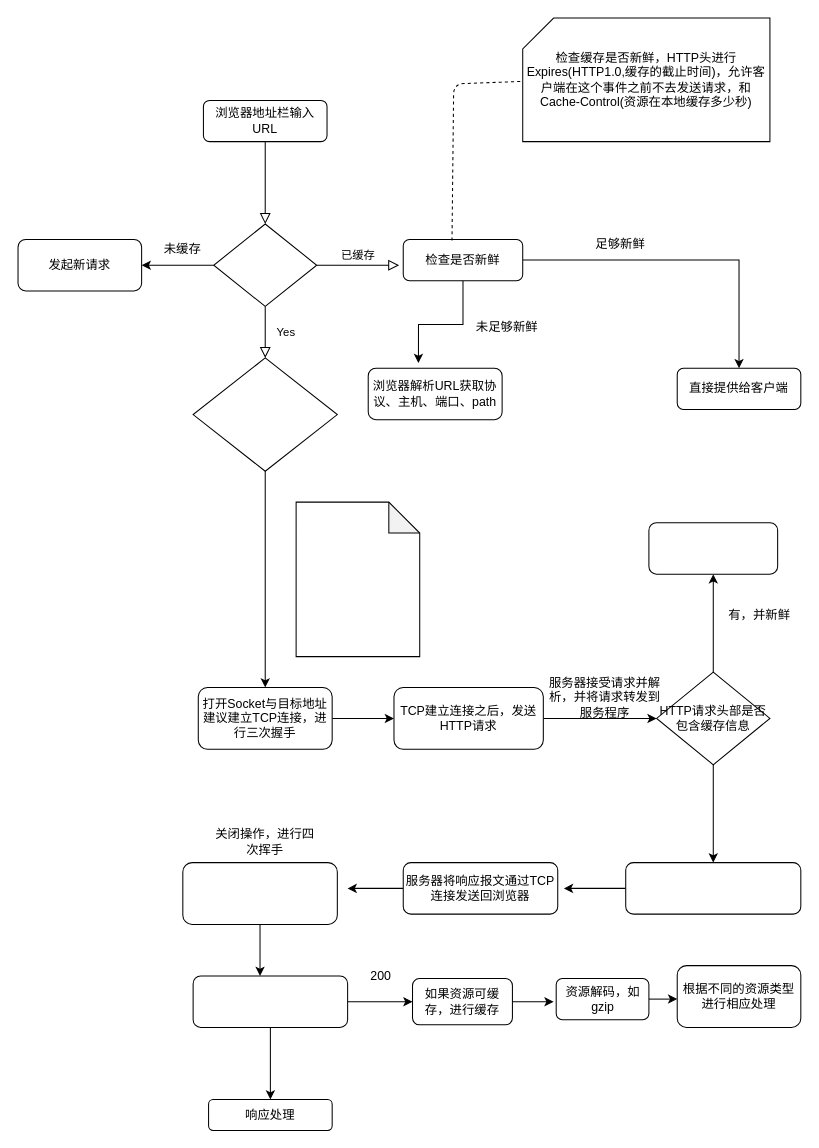
Some shapes in this 819 by 1148 pixel diagram are drawn without their labels. Each missing label, with the box of its shape:
处理程序读取完整请求并准备HTTP响应: (625, 862, 801, 914)
查看缓存: (213, 223, 317, 306)
浏览器接收到HTTP响应根据情况选择关闭TCP连接或保留重用: (182, 862, 337, 924)
浏览器检查状态码: (192, 975, 348, 1027)
浏览器组装一个HTTP请求报文: (192, 357, 337, 471)
浏览器获取IP地址： 1.浏览器缓存 2. 本机缓存 3. hosts文件 4. 路由器缓存 5. DNS缓存 6.DNS递归查询: (295, 501, 420, 657)
返回304等状态码: (648, 522, 778, 574)
